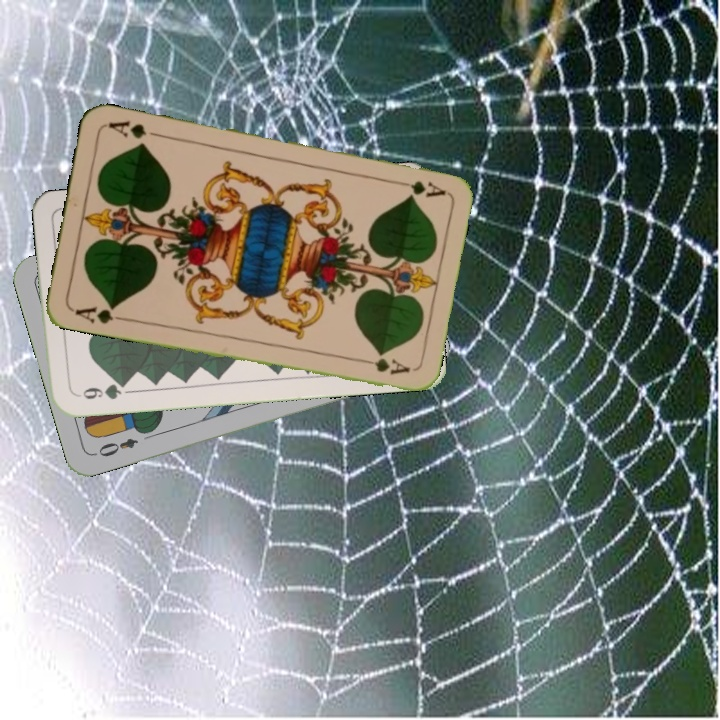EO: (94, 434, 141, 460)
G9: (72, 378, 130, 402)
GA: (71, 301, 128, 327), (389, 176, 448, 200)
